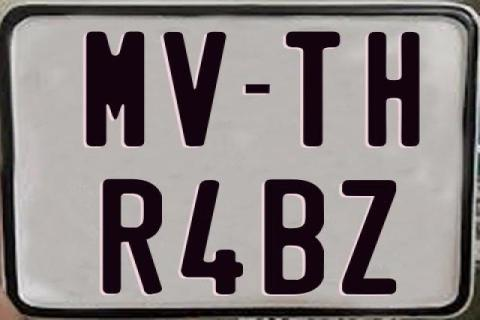0: (182, 180, 244, 298)
B: (262, 178, 322, 294)
H: (368, 32, 425, 150)
M: (84, 31, 148, 151)
R: (102, 178, 164, 294)
T: (285, 30, 339, 148)
V: (161, 32, 229, 149)
Z: (341, 178, 396, 294)
